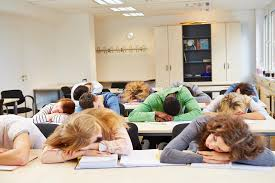student_copying: (144, 110, 263, 176)
